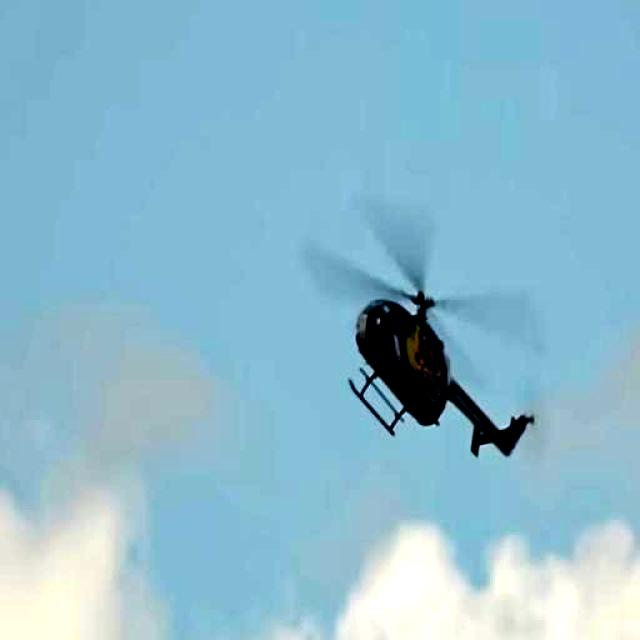drone: (332, 188, 541, 545)
